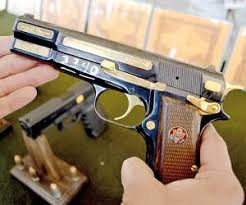Arma Real: (12, 13, 233, 179), (18, 77, 119, 142)
